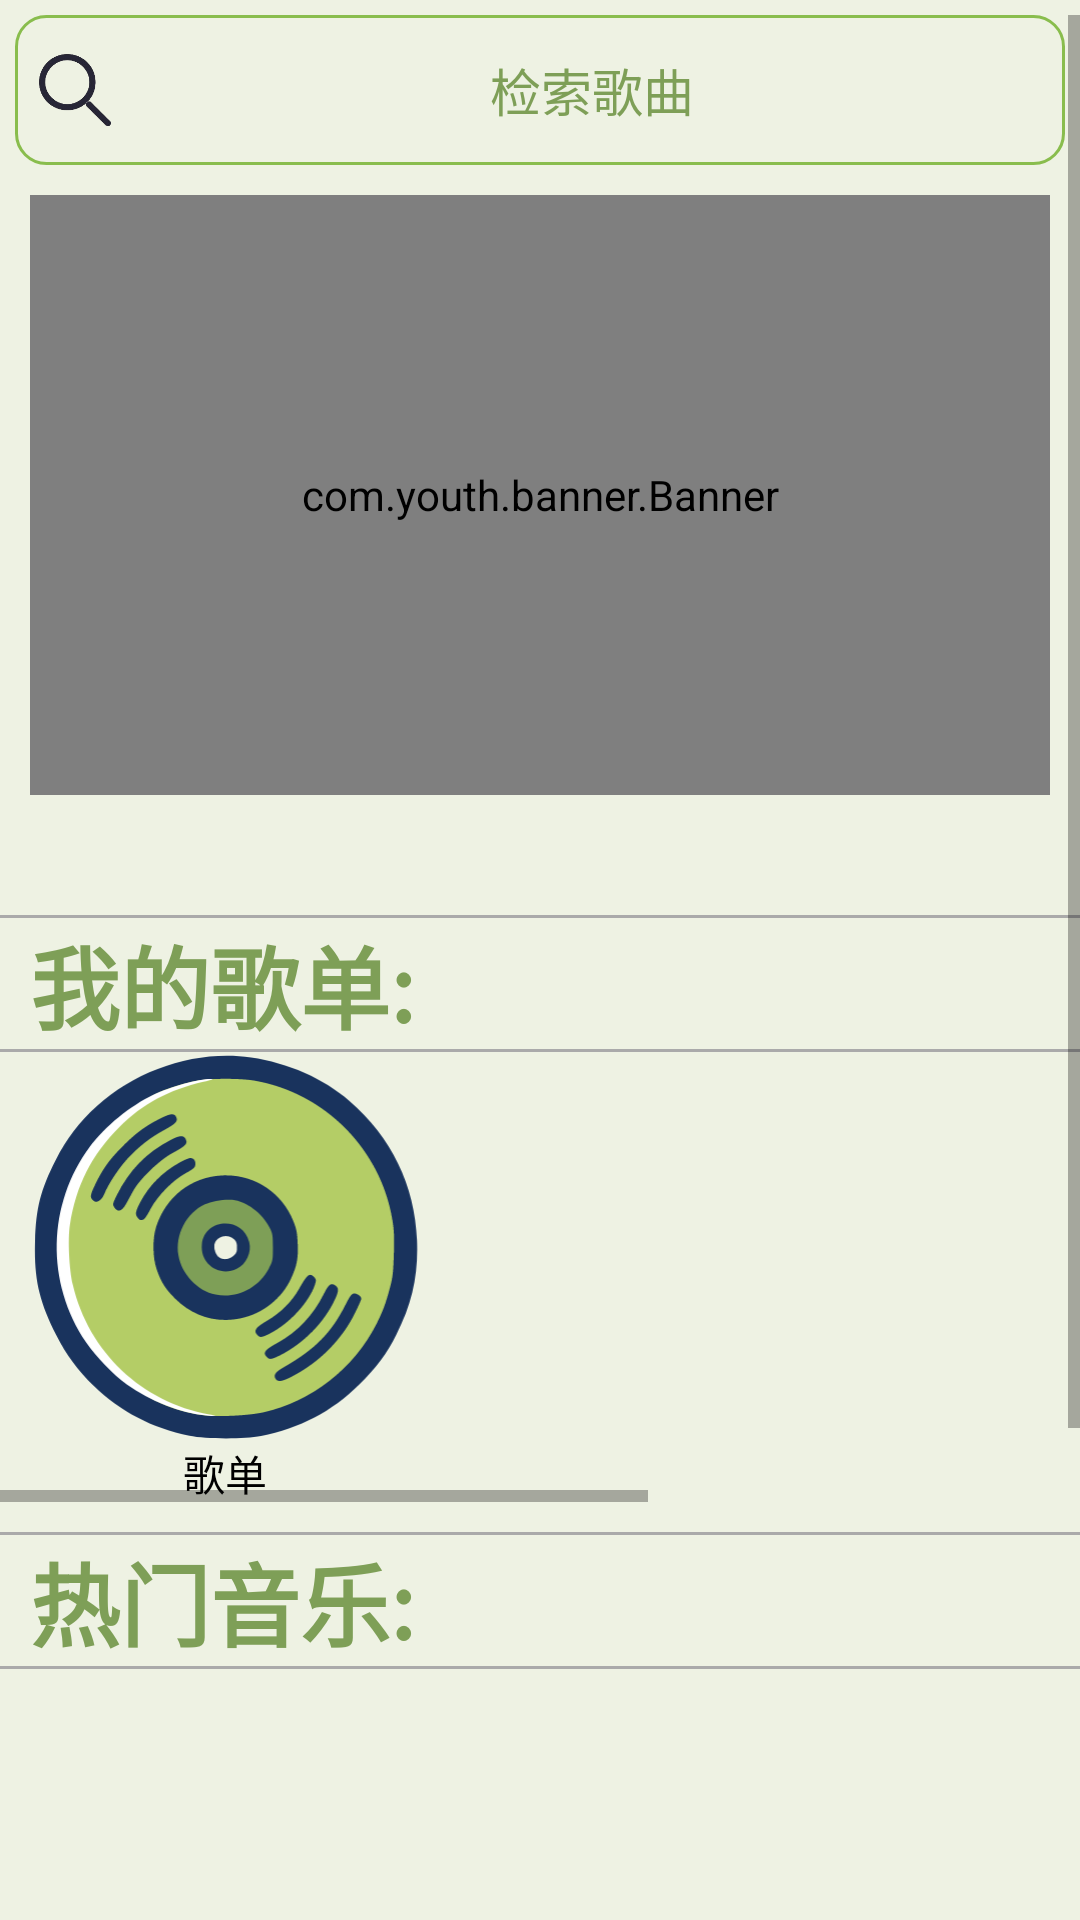

Where icons sit on this 1080px x 1920px app screen, as (x1, y1, x2, y2):
search: (39, 54, 111, 126)
